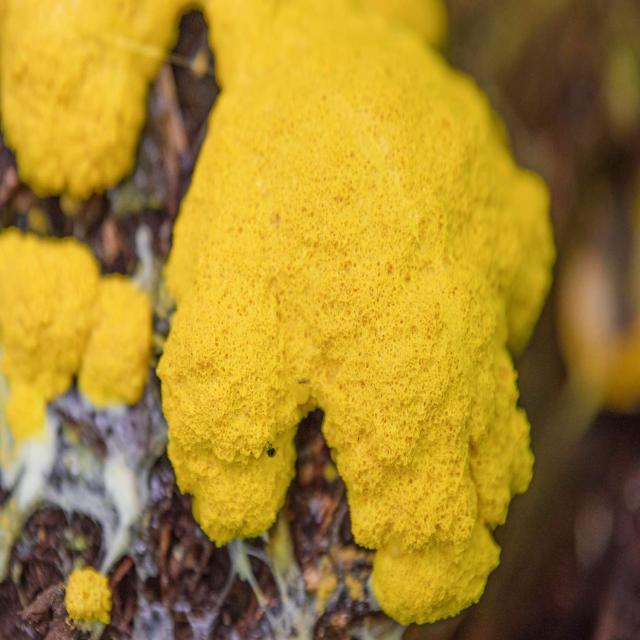Dog_vomit_slime_mold: (3, 3, 569, 640)
